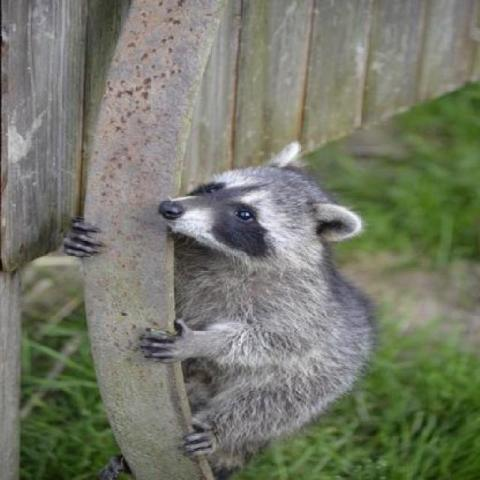small_animal: (63, 140, 381, 478)
